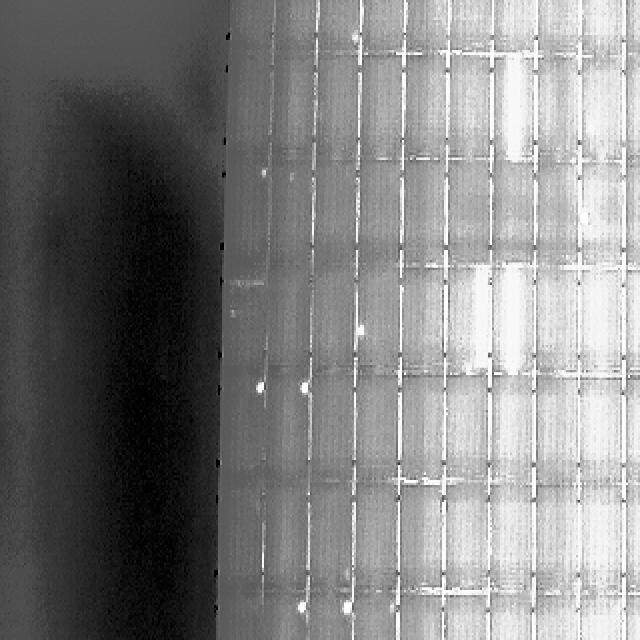Hotspots: (579, 198, 596, 246), (285, 601, 306, 622), (337, 600, 354, 620), (254, 374, 270, 394), (353, 320, 368, 340), (296, 378, 310, 395)
PV-modules: (260, 372, 310, 487), (444, 480, 492, 591), (489, 268, 536, 379), (311, 371, 357, 484), (488, 375, 536, 483), (262, 264, 310, 372), (576, 266, 623, 376), (351, 484, 398, 594), (309, 486, 355, 598), (576, 486, 622, 598), (265, 162, 313, 269), (404, 57, 452, 164), (488, 485, 535, 594), (536, 162, 584, 268), (217, 489, 264, 597), (443, 269, 489, 379), (313, 268, 360, 375), (264, 488, 310, 597), (443, 155, 489, 264), (222, 160, 267, 271), (536, 487, 581, 597), (398, 484, 443, 594), (353, 372, 398, 482), (401, 269, 446, 379), (354, 161, 400, 268), (581, 163, 627, 270), (228, 53, 274, 160), (399, 375, 445, 481), (489, 160, 534, 268), (537, 59, 582, 167), (577, 377, 622, 485), (402, 160, 447, 268), (538, 265, 582, 375), (313, 162, 359, 267), (446, 378, 492, 483), (490, 58, 536, 163), (576, 60, 622, 165), (218, 377, 261, 489), (360, 264, 405, 371), (536, 376, 580, 485), (358, 57, 403, 162), (316, 54, 360, 160), (270, 56, 314, 162), (448, 58, 493, 161), (221, 281, 265, 377), (581, 0, 626, 58), (357, 0, 404, 55), (537, 0, 582, 56), (403, 0, 449, 54), (231, 0, 275, 56), (488, 0, 534, 52), (318, 0, 364, 52), (271, 0, 316, 52), (398, 590, 444, 640), (480, 595, 530, 640), (444, 592, 490, 640), (448, 0, 492, 50), (350, 590, 394, 640), (622, 375, 640, 487), (214, 595, 258, 640), (262, 595, 306, 640), (534, 597, 580, 640), (576, 597, 622, 640), (622, 487, 640, 595), (622, 270, 640, 378), (302, 600, 350, 640), (622, 162, 640, 268), (622, 60, 640, 162), (622, 0, 640, 58), (622, 595, 640, 640)
